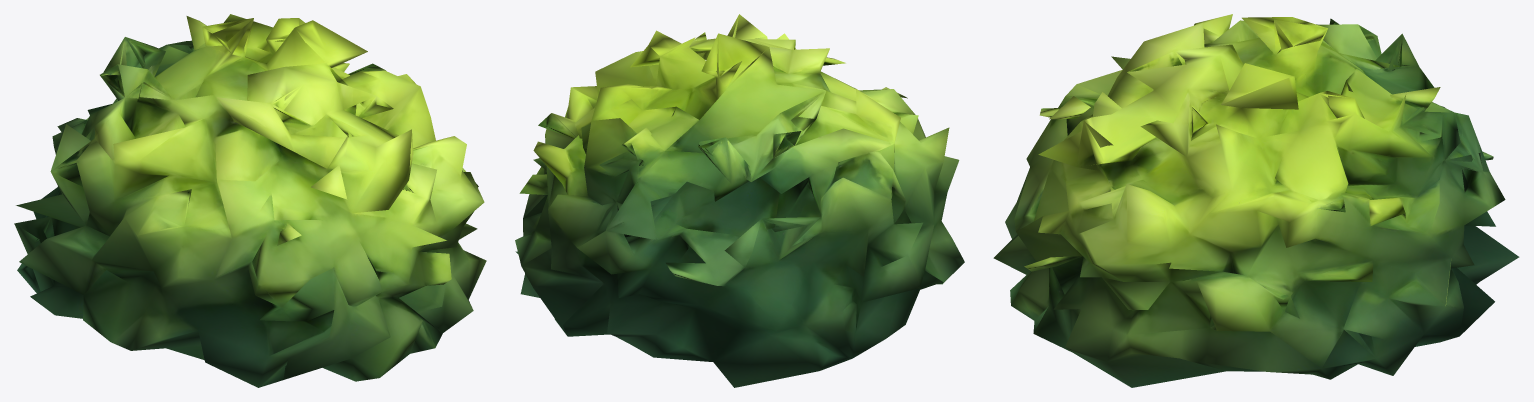
File: bush_tripo.glb
3 views of the same model, side by side, from view 1: azimuth 30°, elevation 25°; view 2: azimuth 150°, elevation 25°; view 3: azimuth 270°, elevation 25° (orthographic). The views are drawn at different scales.
Visible parts, largest first — view 1: tripo_node_1ac955a1-5ed9-464f-b0d1-34b0d2a15f15; view 2: tripo_node_1ac955a1-5ed9-464f-b0d1-34b0d2a15f15; view 3: tripo_node_1ac955a1-5ed9-464f-b0d1-34b0d2a15f15.
Part boxes in pixels (left/top/right/bottom): tripo_node_1ac955a1-5ed9-464f-b0d1-34b0d2a15f15: left=14, top=14, right=486, bottom=387; tripo_node_1ac955a1-5ed9-464f-b0d1-34b0d2a15f15: left=515, top=14, right=964, bottom=387; tripo_node_1ac955a1-5ed9-464f-b0d1-34b0d2a15f15: left=993, top=14, right=1519, bottom=387.
Size of the model in its own units: 0.9759 by 0.6466 by 1.
Materials: 1 (1 with a texture image).
